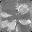people: (17, 4, 29, 16), (7, 19, 16, 32), (19, 19, 31, 26), (0, 20, 10, 28), (1, 12, 12, 18)
